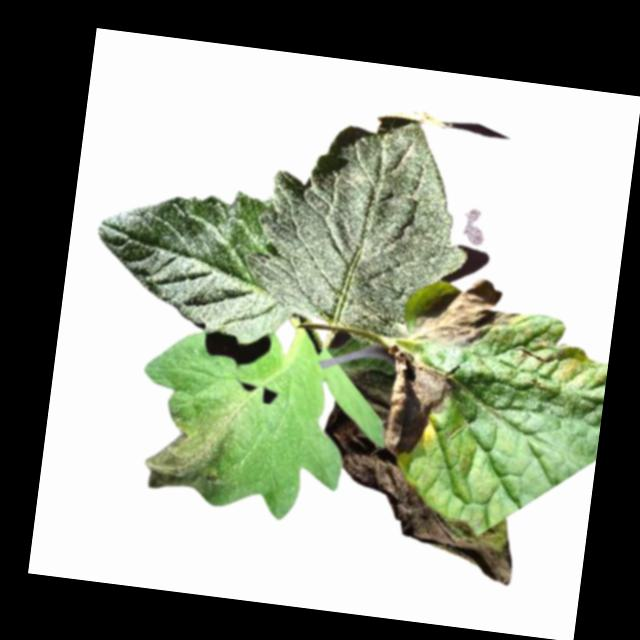Late_blight: (308, 399, 528, 587), (373, 343, 460, 472), (409, 269, 523, 358), (139, 405, 243, 500), (337, 364, 397, 431)
